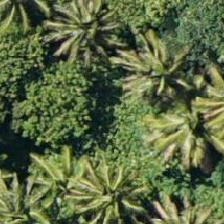coconut_tree: (2, 131, 92, 221), (115, 16, 205, 106), (137, 84, 223, 174), (37, 0, 127, 77), (48, 152, 138, 223), (0, 169, 47, 223)
